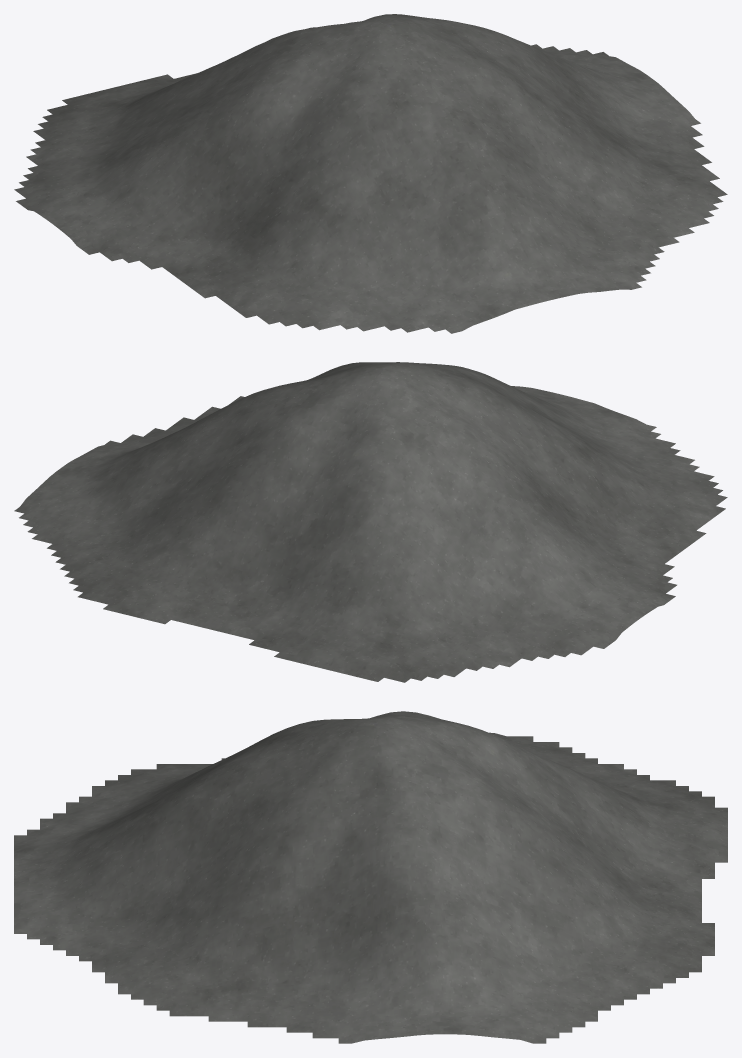
Rendered from EST-CON-001.glb.
The picture shows the model from 3 angles, top to bottom: view 1: azimuth 30°, elevation 25°; view 2: azimuth 150°, elevation 25°; view 3: azimuth 270°, elevation 25°; orthographic projection. The views are drawn at different scales.
Visible parts, largest first — view 1: EST-CON-001_concreto; view 2: EST-CON-001_concreto; view 3: EST-CON-001_concreto.
Boxes of the visible parts, x1,y1,x2,y2 form: EST-CON-001_concreto: (14,14,727,333); EST-CON-001_concreto: (14,362,727,682); EST-CON-001_concreto: (14,711,727,1043).
Size of the model in its own units: 1.7 by 0.4316 by 1.67.
1 material, 1 textured.
